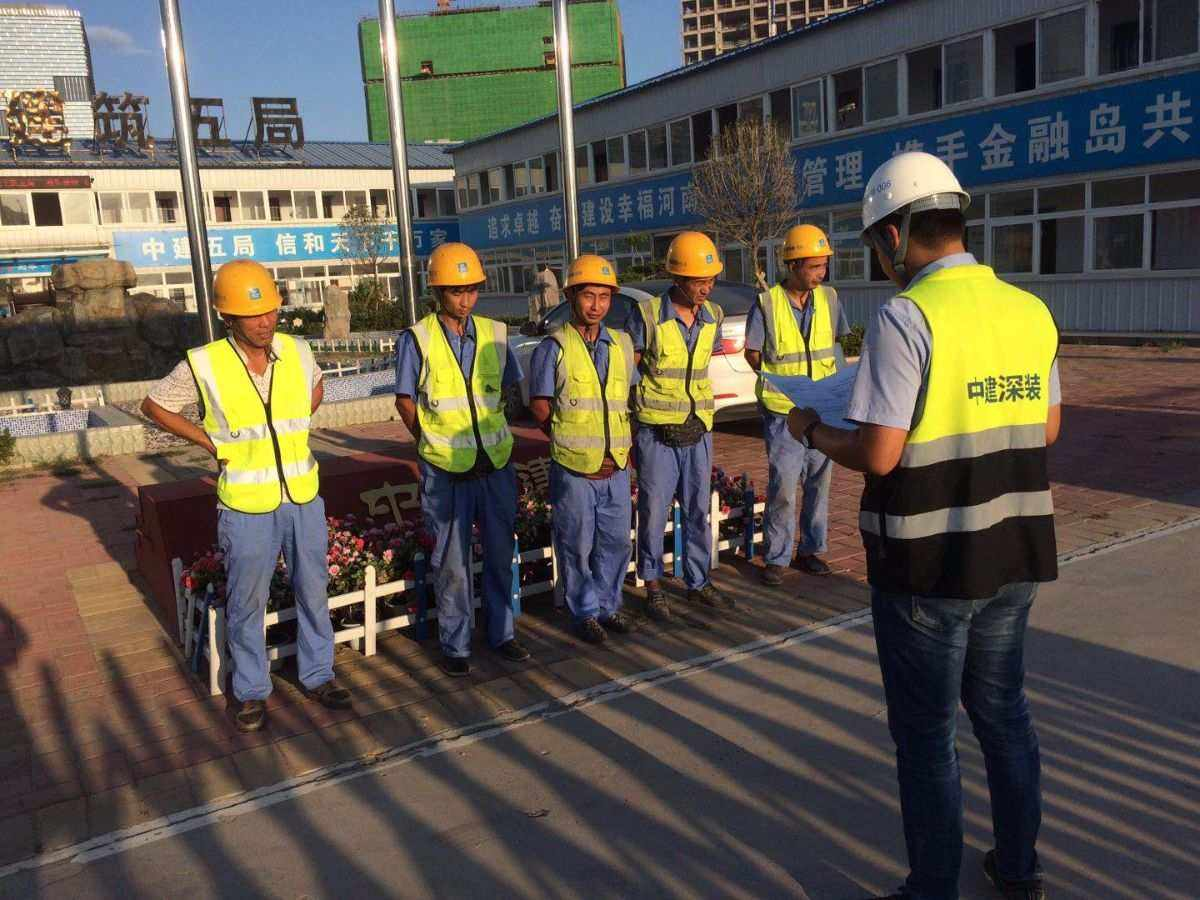person: (785, 150, 1059, 900), (139, 256, 358, 739), (392, 240, 535, 680), (629, 227, 739, 629), (528, 252, 639, 647), (743, 220, 855, 584)
reflective_vest: (854, 263, 1059, 594), (186, 331, 321, 515), (400, 308, 518, 474), (543, 323, 637, 476), (634, 291, 726, 434), (754, 283, 841, 416)
safety_helmet: (856, 151, 976, 292), (208, 256, 286, 351), (425, 239, 488, 318), (662, 227, 725, 303), (561, 252, 622, 326), (781, 222, 838, 294)
